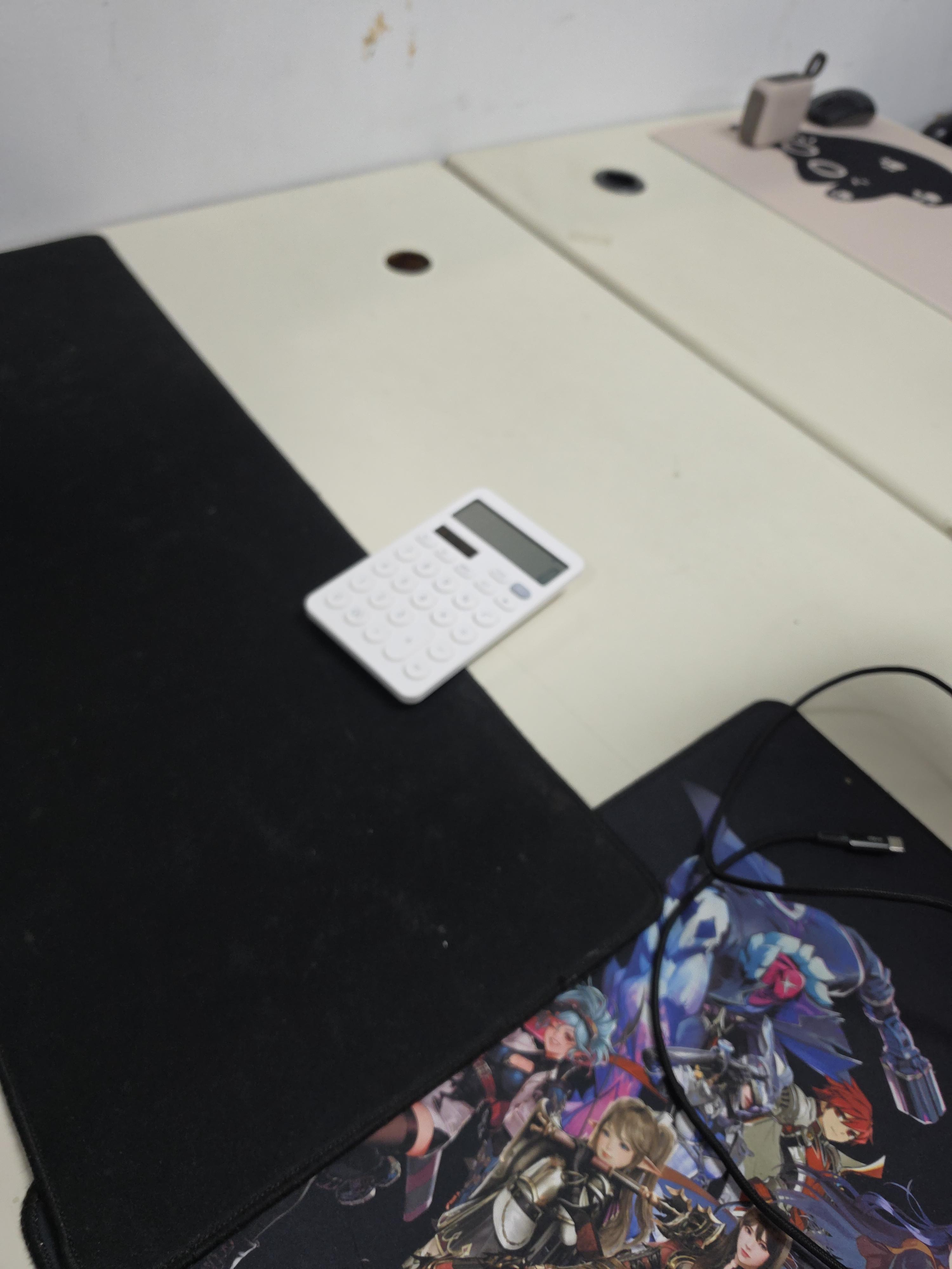calculator: (304, 486, 585, 705)
